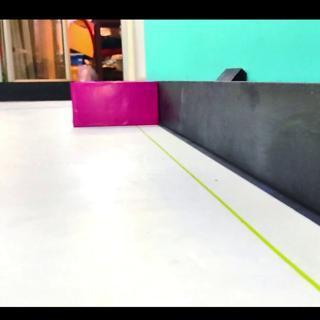xparking: (73, 82, 154, 126)
